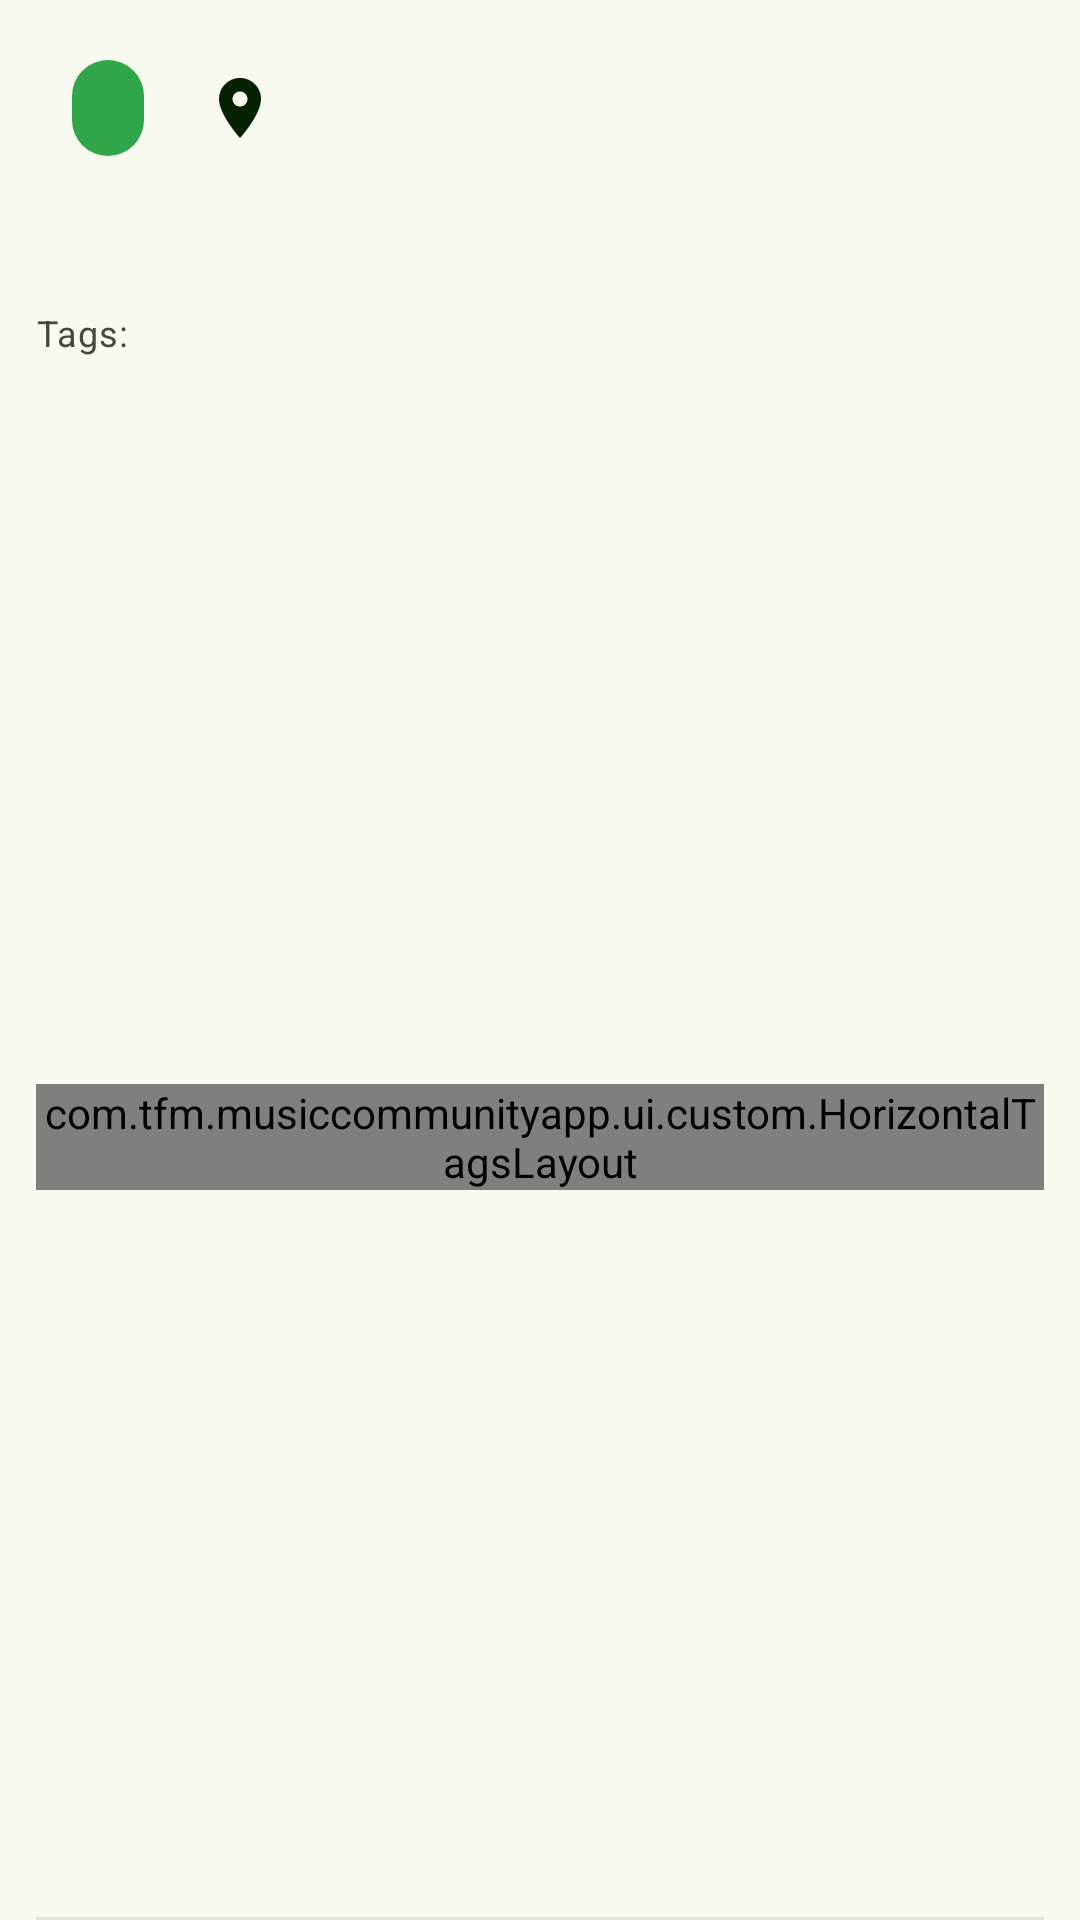

Icons on this 1080x1920 Android screen, each with its box as (x1, y1, x2, y2):
loc: (219, 78, 261, 138)
